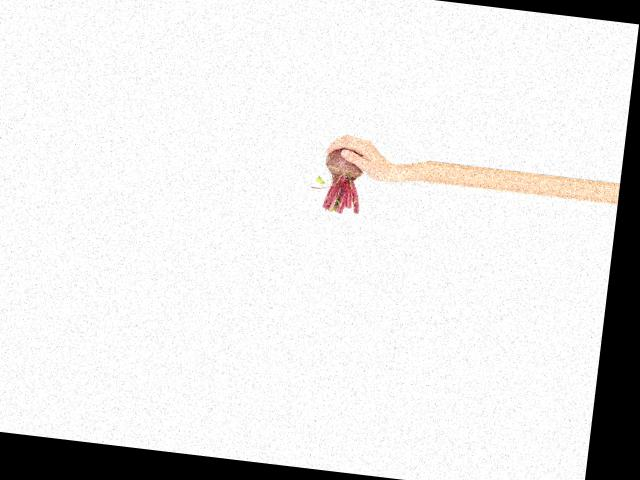beet: (307, 144, 365, 215)
